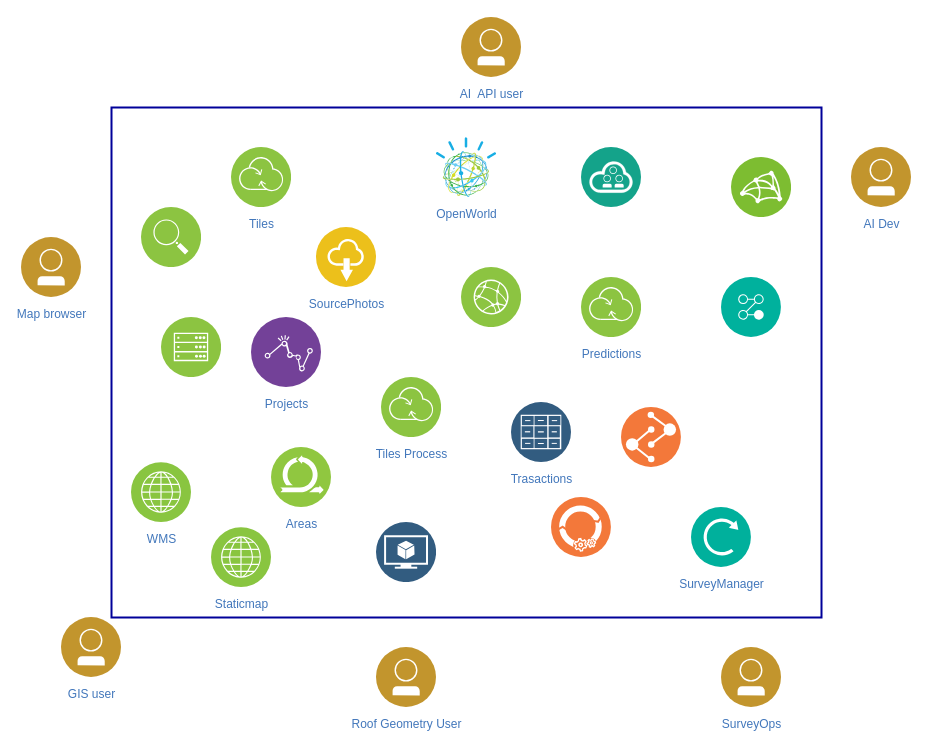
Some shapes in this 929 by 748 pixel diagram are drawn without their labels. Each missing label, with the box of its shape:
Attributes: (461, 267, 521, 327)
Coverage: (141, 207, 201, 267)
Exports: (161, 317, 221, 377)
Features: (581, 147, 641, 207)
Job Scheduler: (551, 497, 611, 557)
Meshs: (731, 157, 791, 217)
Models: (376, 522, 436, 582)
Reproject: (621, 407, 681, 467)
Tilesstitch: (721, 277, 781, 337)
